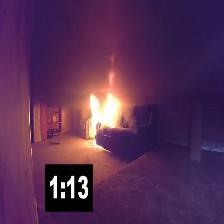fire: (82, 82, 123, 140)
